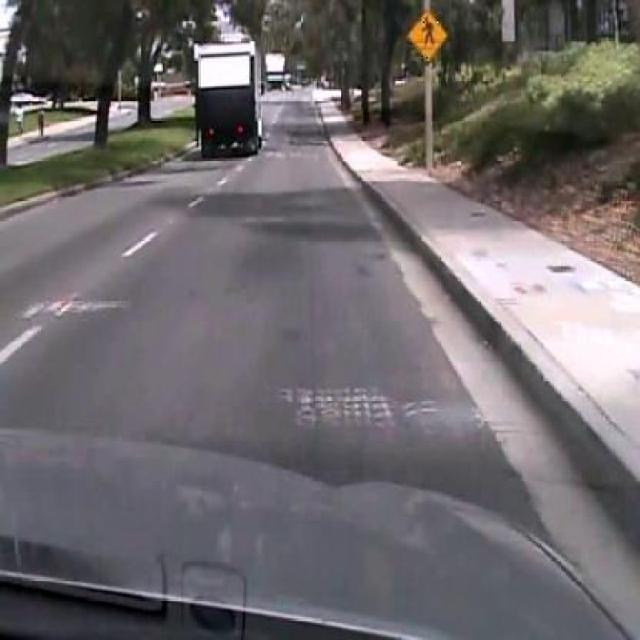pedestrianCrossing: (406, 6, 448, 61)
